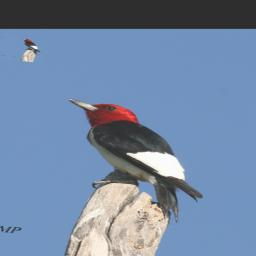Woodpecker: (36, 97, 230, 226)
